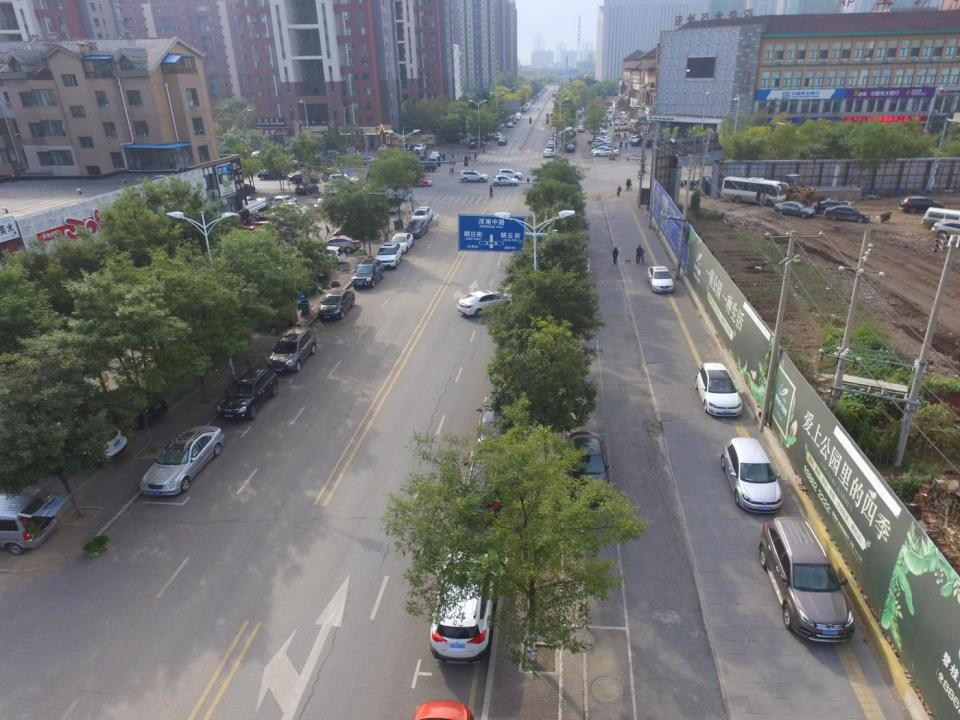bus: (720, 175, 790, 208)
car: (758, 516, 852, 645), (428, 545, 499, 667), (140, 424, 223, 499), (720, 437, 783, 516), (35, 410, 123, 465), (464, 447, 519, 524), (77, 388, 164, 429), (566, 432, 610, 507), (215, 371, 277, 422), (695, 360, 744, 417), (480, 391, 524, 452), (266, 328, 316, 372), (457, 289, 515, 319), (316, 289, 354, 321), (352, 258, 384, 288), (824, 205, 871, 224), (899, 196, 948, 214), (646, 265, 674, 295), (303, 244, 345, 264), (374, 241, 402, 269), (331, 225, 379, 241), (772, 200, 814, 218), (319, 236, 361, 252), (932, 220, 960, 240), (389, 233, 413, 253), (404, 219, 429, 238), (814, 201, 844, 215), (410, 206, 433, 224), (371, 200, 400, 214), (329, 173, 360, 185), (460, 170, 489, 182), (257, 169, 288, 180), (272, 195, 297, 208), (495, 169, 523, 180), (490, 175, 518, 186), (413, 161, 438, 173), (404, 176, 432, 186), (289, 173, 319, 182), (295, 184, 319, 195), (592, 147, 618, 157), (354, 156, 378, 166), (468, 141, 484, 149), (402, 143, 414, 153), (415, 152, 428, 161), (543, 149, 556, 158), (389, 144, 401, 153), (414, 144, 427, 152), (564, 143, 574, 153), (632, 138, 642, 147), (377, 144, 388, 152), (629, 134, 640, 142), (430, 152, 440, 160), (498, 138, 507, 146), (482, 132, 493, 138), (494, 132, 502, 140), (470, 138, 478, 146), (506, 122, 514, 128), (578, 126, 585, 132)
truck: (682, 174, 713, 191)
van: (0, 492, 63, 557), (922, 208, 960, 228)
